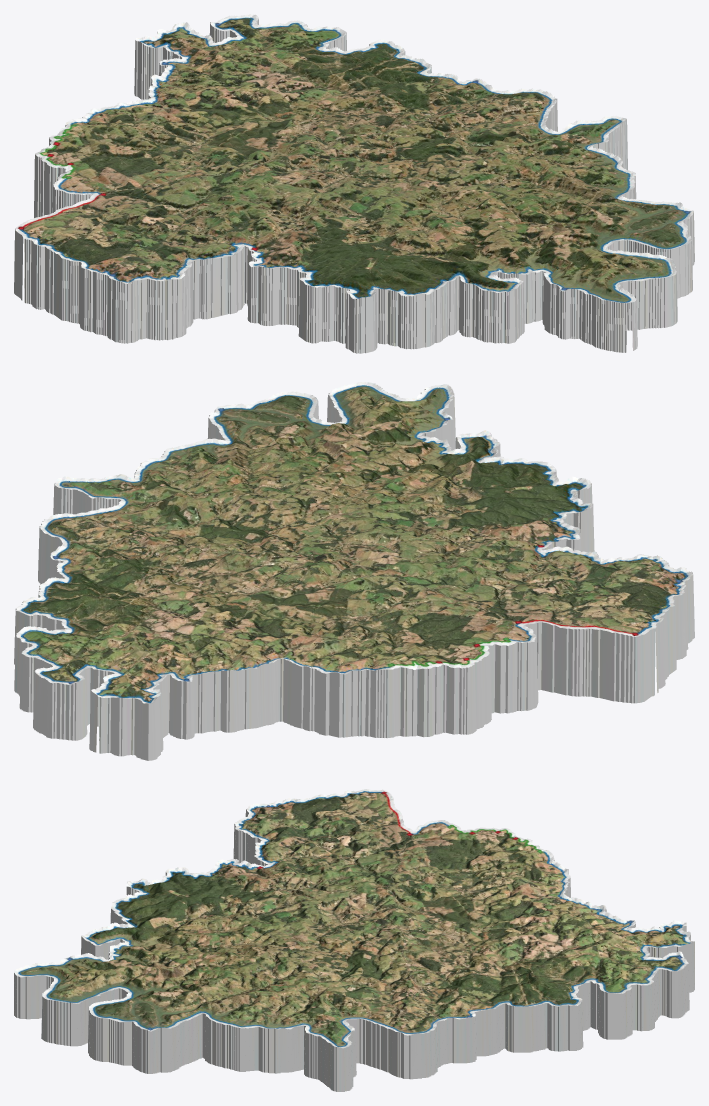
3 views of the same model, one above another, from view 1: azimuth 30°, elevation 25°; view 2: azimuth 150°, elevation 25°; view 3: azimuth 270°, elevation 25° (orthographic). The views are drawn at different scales.
Bounding box in the file's own units: 1 × 0.1081 × 1.16.
1 material, 1 textured.
